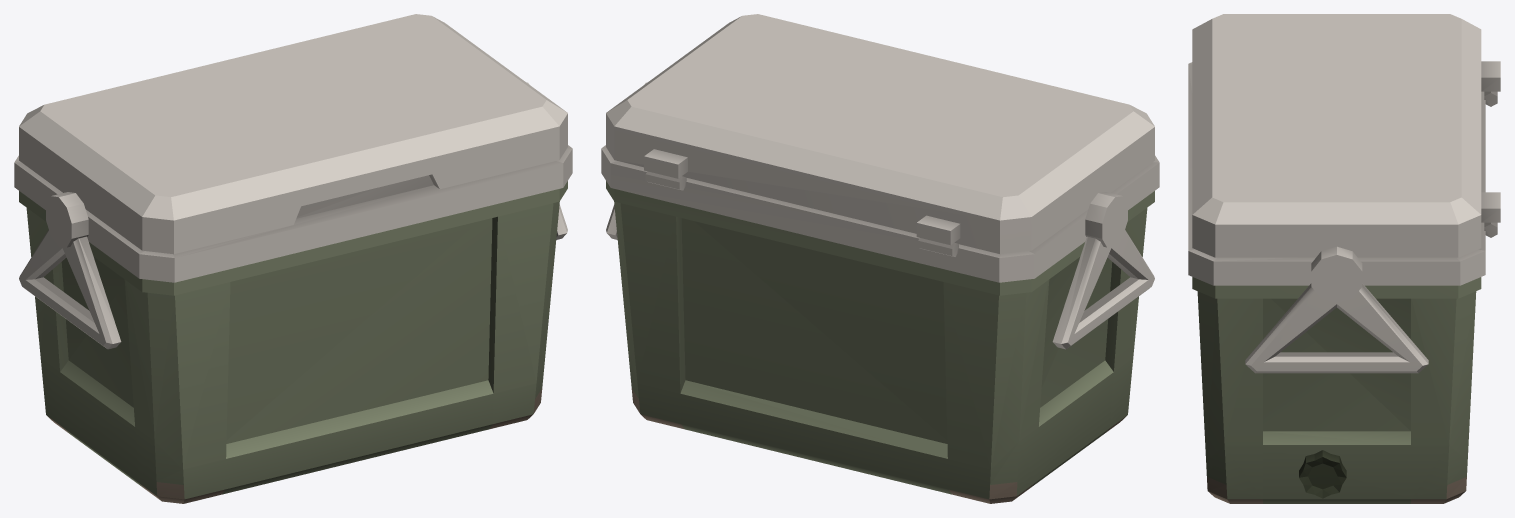
The model's file is cooler.glb.
The picture shows the model from 3 angles, left to right: view 1: azimuth 30°, elevation 25°; view 2: azimuth 150°, elevation 25°; view 3: azimuth 270°, elevation 25°; orthographic projection.
Parts seen in each view (by area): view 1: cooler; view 2: cooler; view 3: cooler.
Boxes of the visible parts, <box> form: cooler: <box>14,14,572,503</box>; cooler: <box>601,14,1159,503</box>; cooler: <box>1188,14,1500,503</box>.
Size of the model in its own units: 0.9854 by 0.624 by 0.5766.
